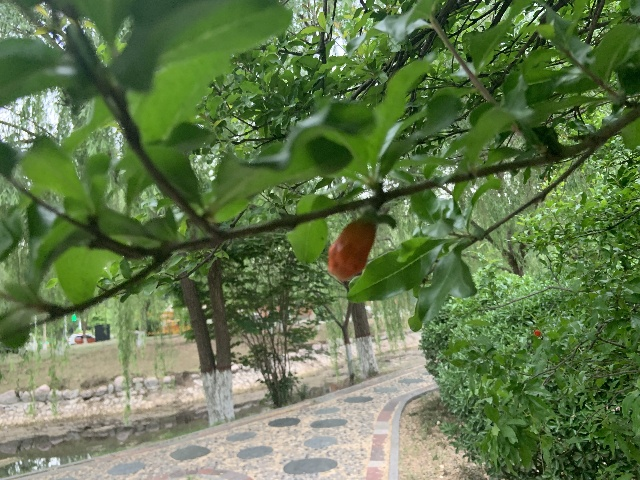bud: (327, 219, 375, 281)
